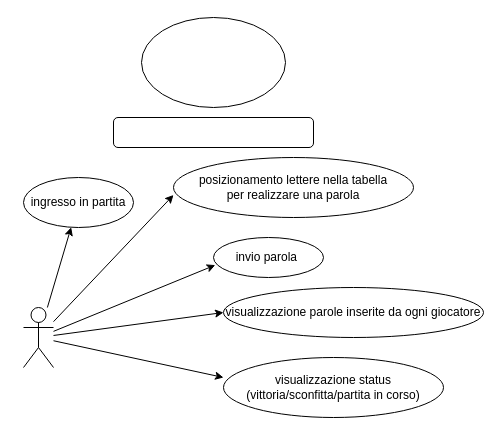
Some shapes in this 501 by 435 pixel diagram are drawn without their labels. Each missing label, with the box of its shape:
Il numero di giocatori è variabile: (112, 116, 314, 148)
Player x: (22, 306, 54, 368)
SCARABEO: (140, 16, 286, 108)
